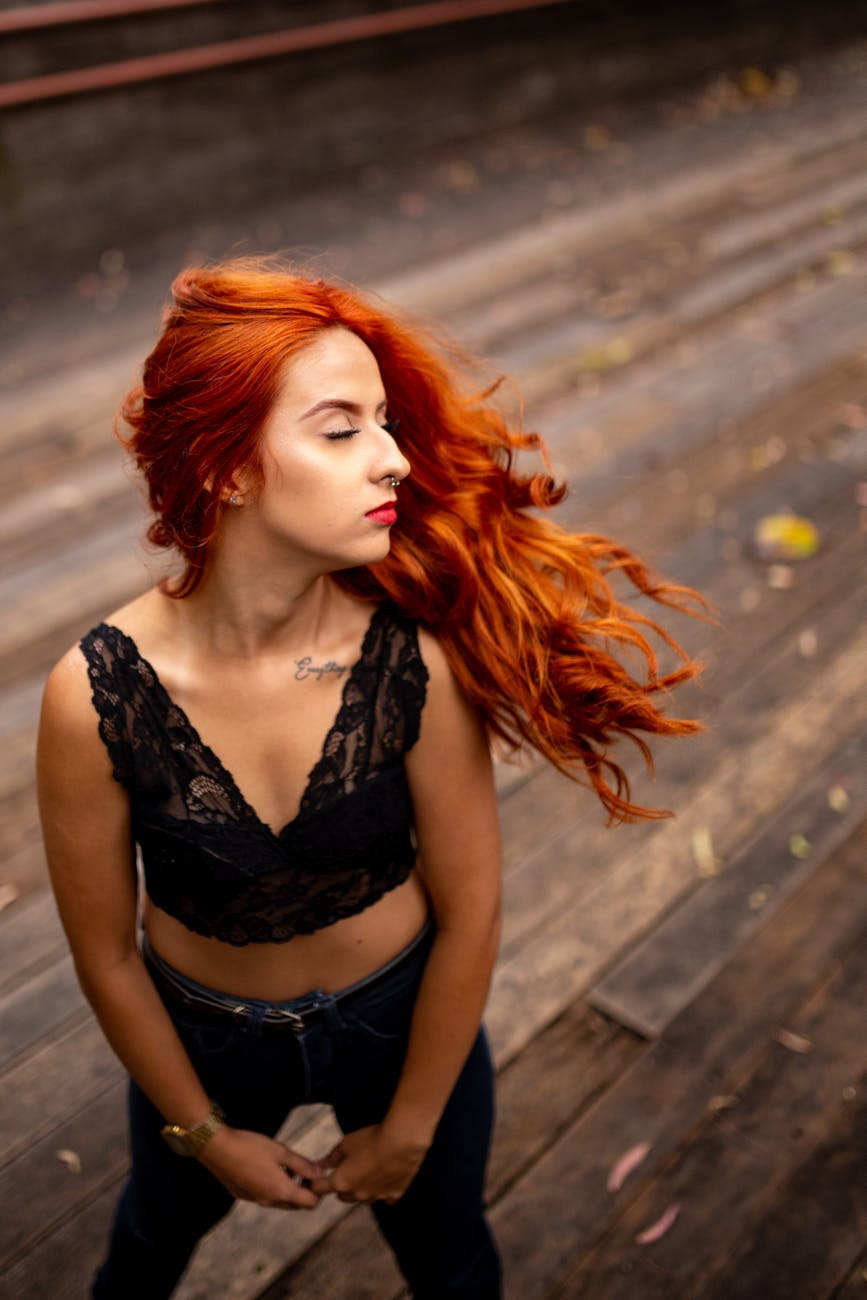crop_top: (66, 621, 461, 951)
transparent_top: (63, 615, 460, 950)
